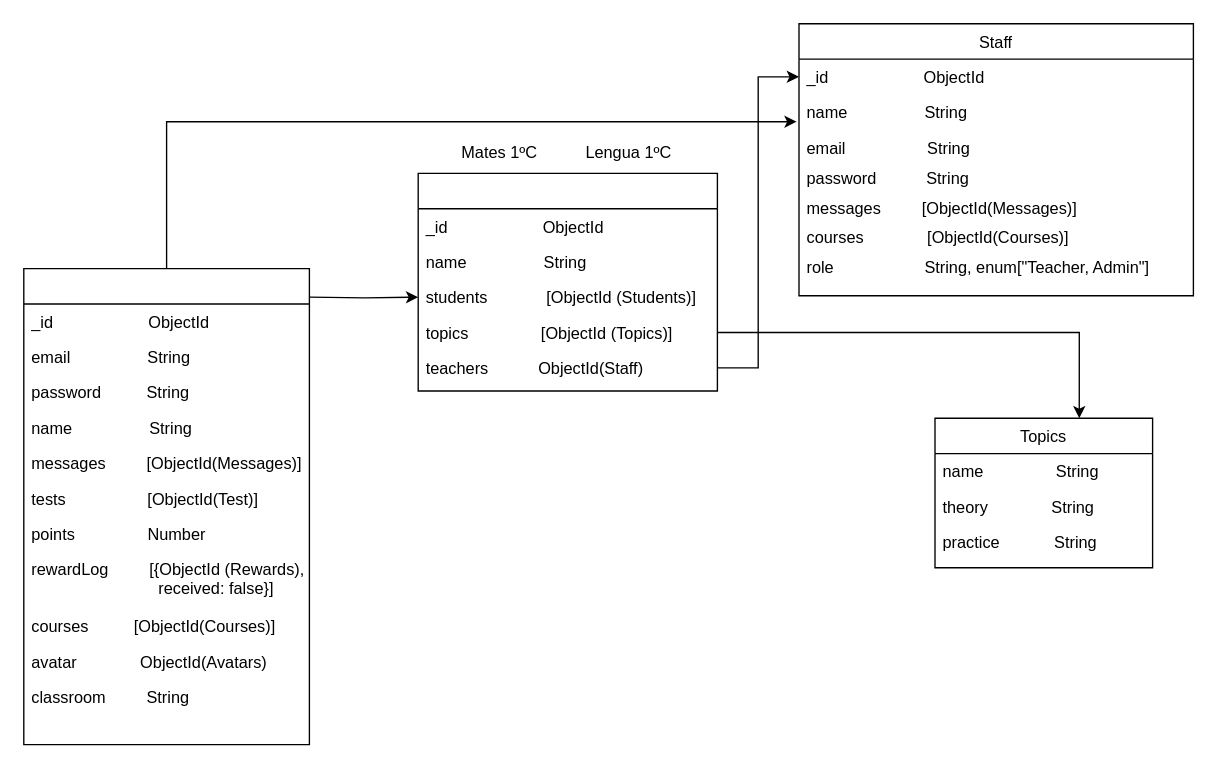
This 1217x768 diagram has some shape labels left out. The shapes that lost their labels are listed below. From the top down, each one's box as (x1, y1, x2, y2) in pixels, then its label:
(417, 172, 717, 391): Courses (Class + Subject)
(22, 267, 309, 745): Students
